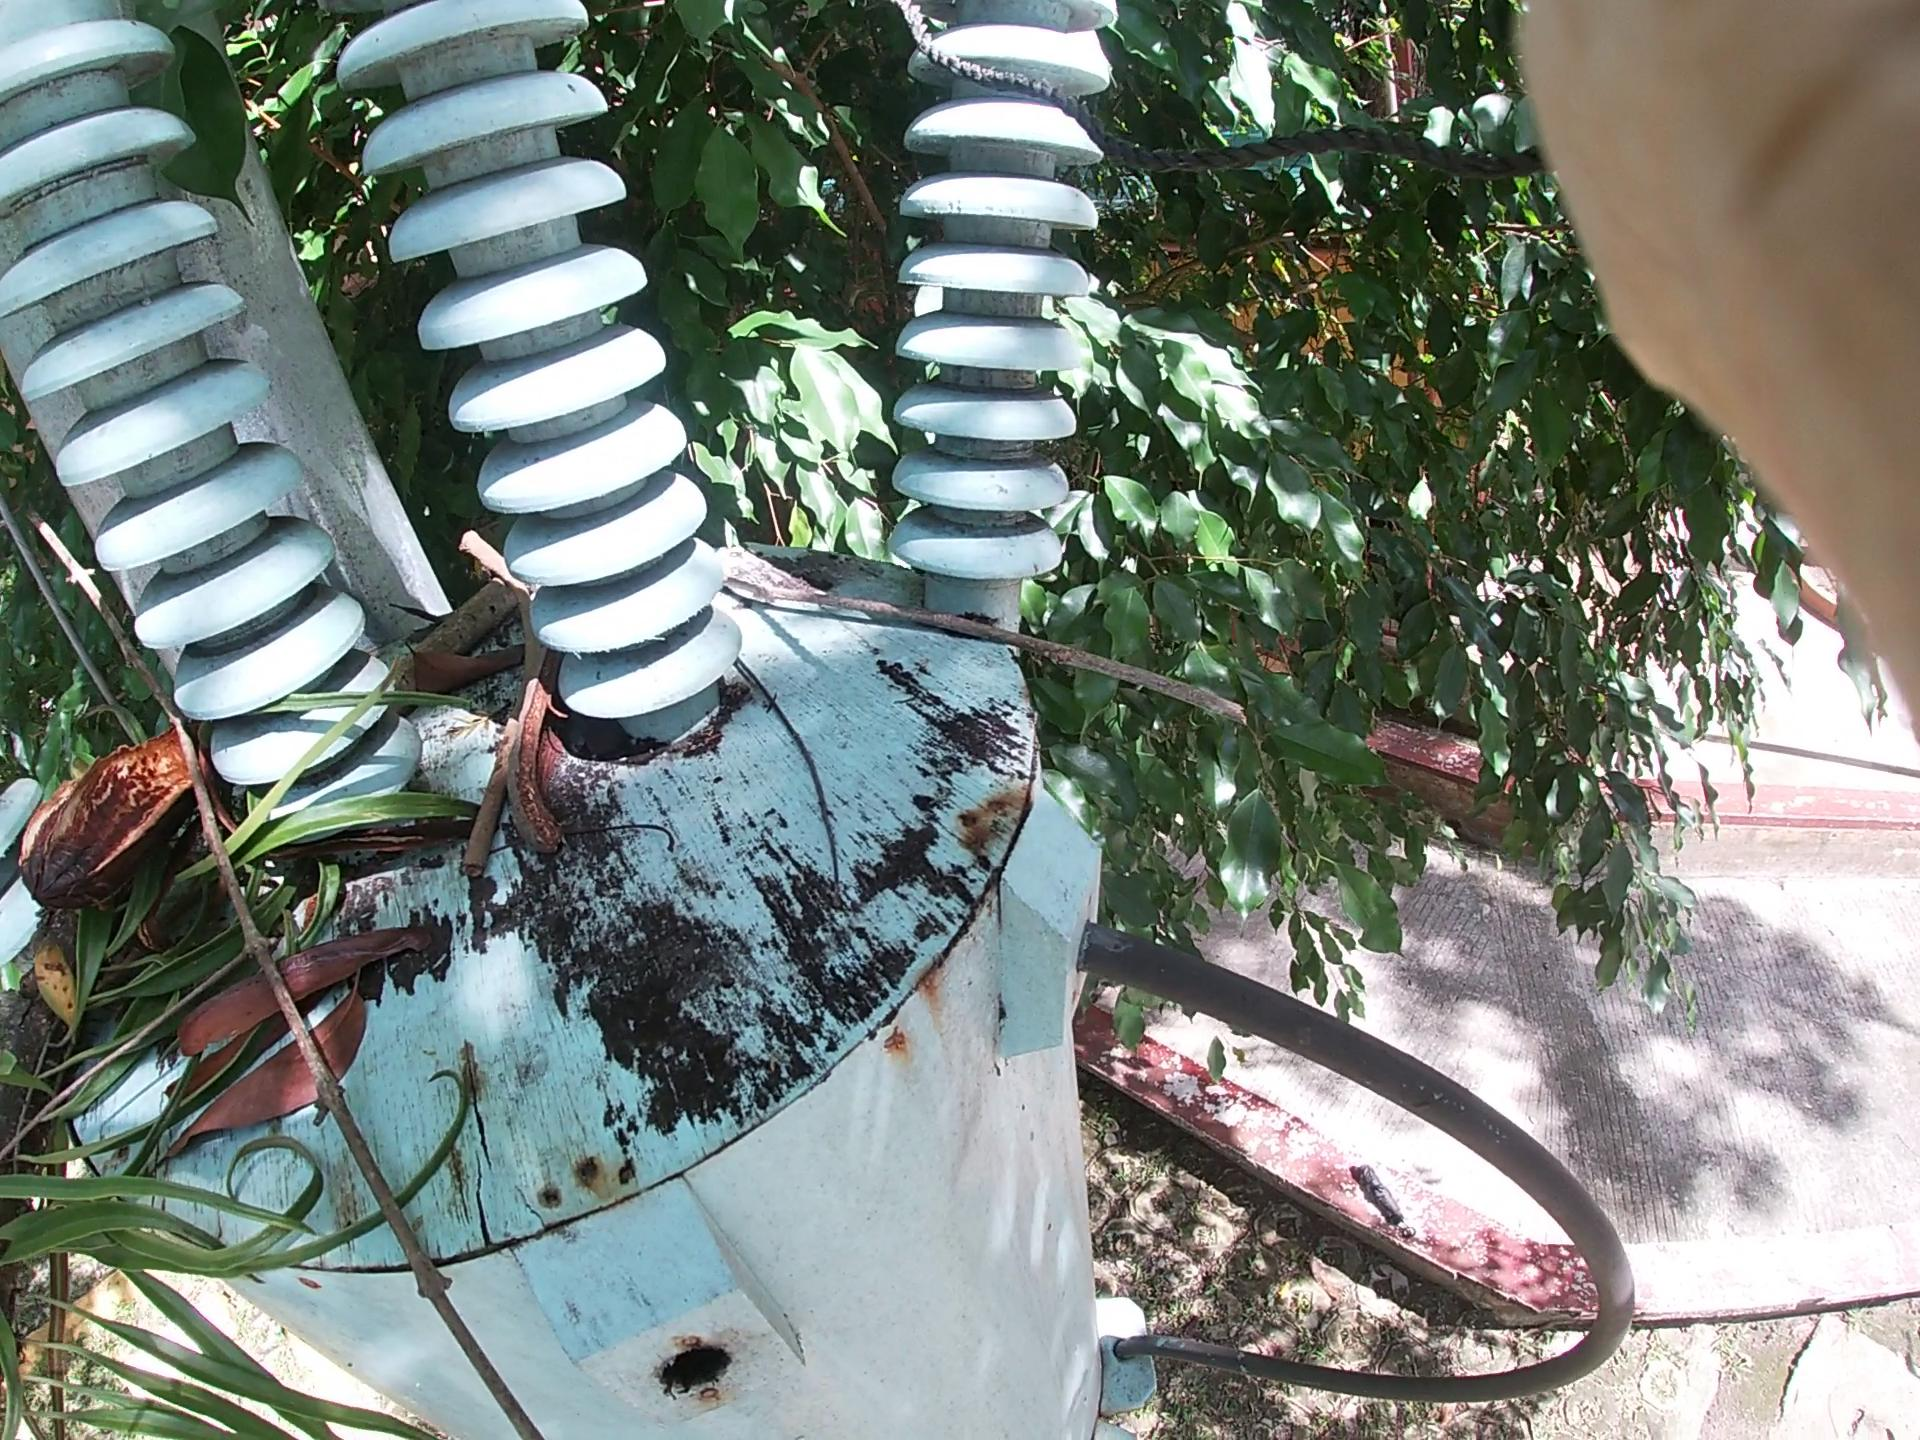branch with leaves: (63, 664, 319, 1355)
leaf: (405, 602, 482, 722)
mahogany fruit: (29, 735, 212, 944), (466, 616, 588, 846)
tree branch: (187, 726, 497, 1389), (3, 673, 302, 1157), (712, 585, 1259, 806), (423, 560, 550, 936)
